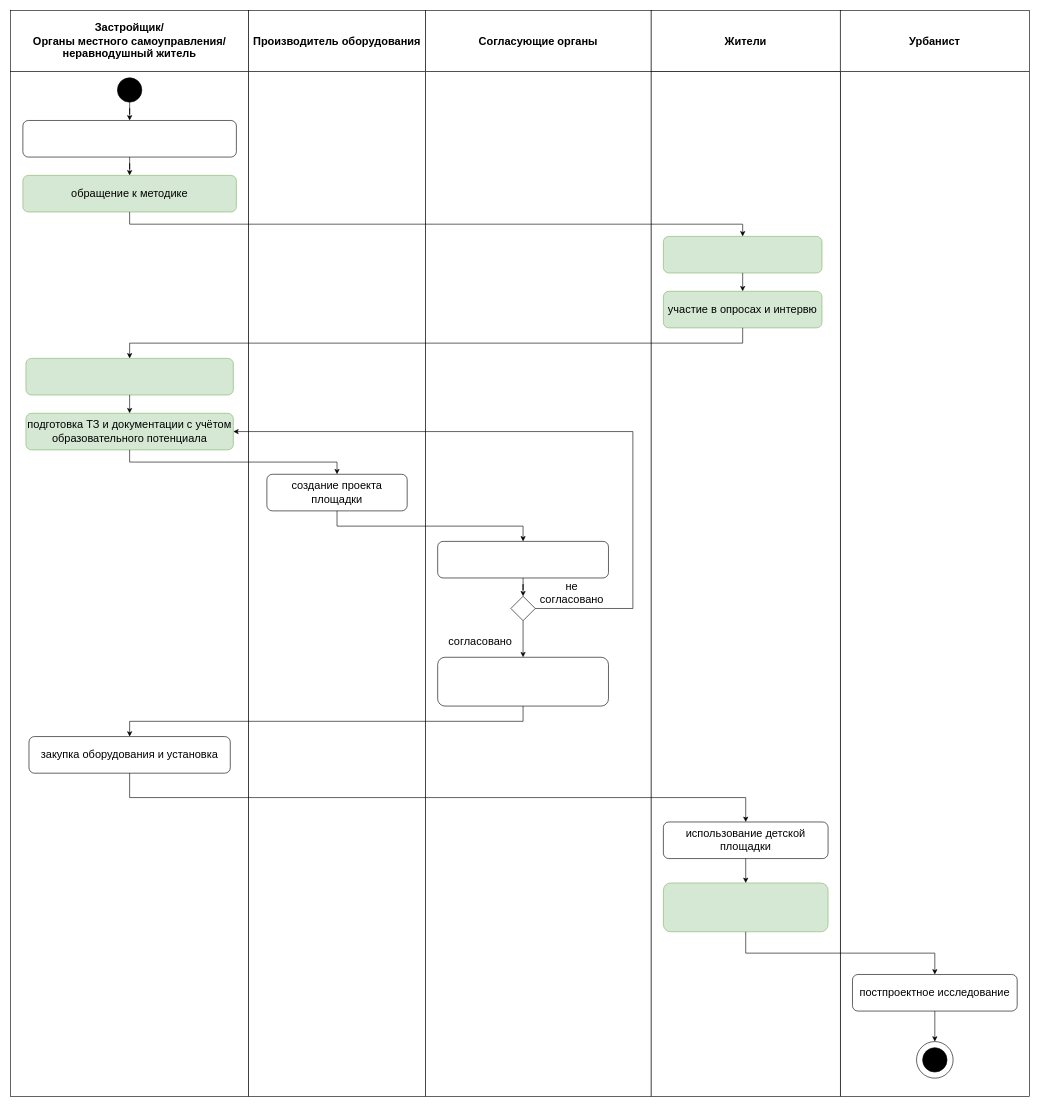
The diagram is 1040 pixels wide and 1107 high, and some of its shapes have lost their labels. The box of each missing label's shape, as (x1, y1, x2, y2) in pixels:
выдача разрешения на установку оборудования: (437, 657, 608, 706)
выражение запросов: (663, 236, 822, 273)
запрос на установку нового оборудования: (22, 120, 236, 157)
обработка данных: (25, 358, 233, 395)
формирование локальной территориальной идентичности: (663, 882, 828, 932)
экспертиза проекта: (437, 541, 608, 578)
